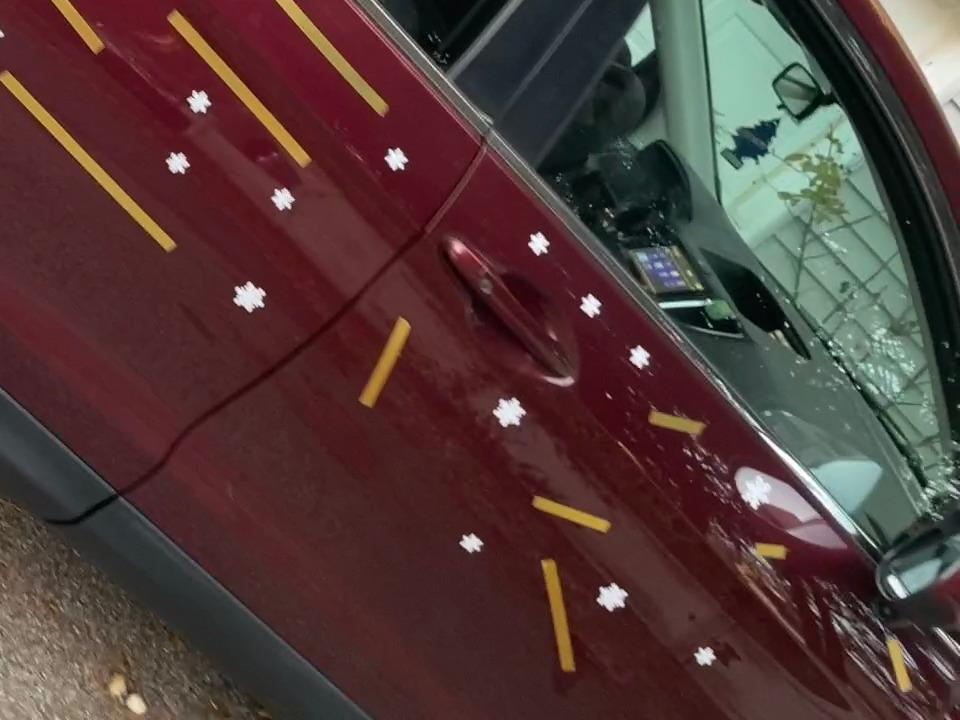dent: (229, 276, 271, 317), (491, 394, 528, 432), (593, 580, 631, 615), (380, 141, 412, 177), (267, 184, 300, 215), (184, 87, 216, 118), (576, 290, 605, 323), (626, 341, 655, 371), (162, 150, 193, 177), (526, 229, 553, 259), (456, 531, 486, 556), (691, 643, 720, 666), (0, 11, 4, 49)
scratch: (0, 65, 178, 256), (180, 0, 392, 121), (163, 6, 314, 171), (355, 311, 420, 412), (0, 0, 105, 55), (538, 554, 583, 675), (529, 490, 613, 537), (879, 626, 917, 698), (647, 403, 709, 443), (752, 539, 791, 563)
